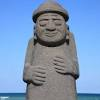Stone Statue: (19, 1, 81, 100)
